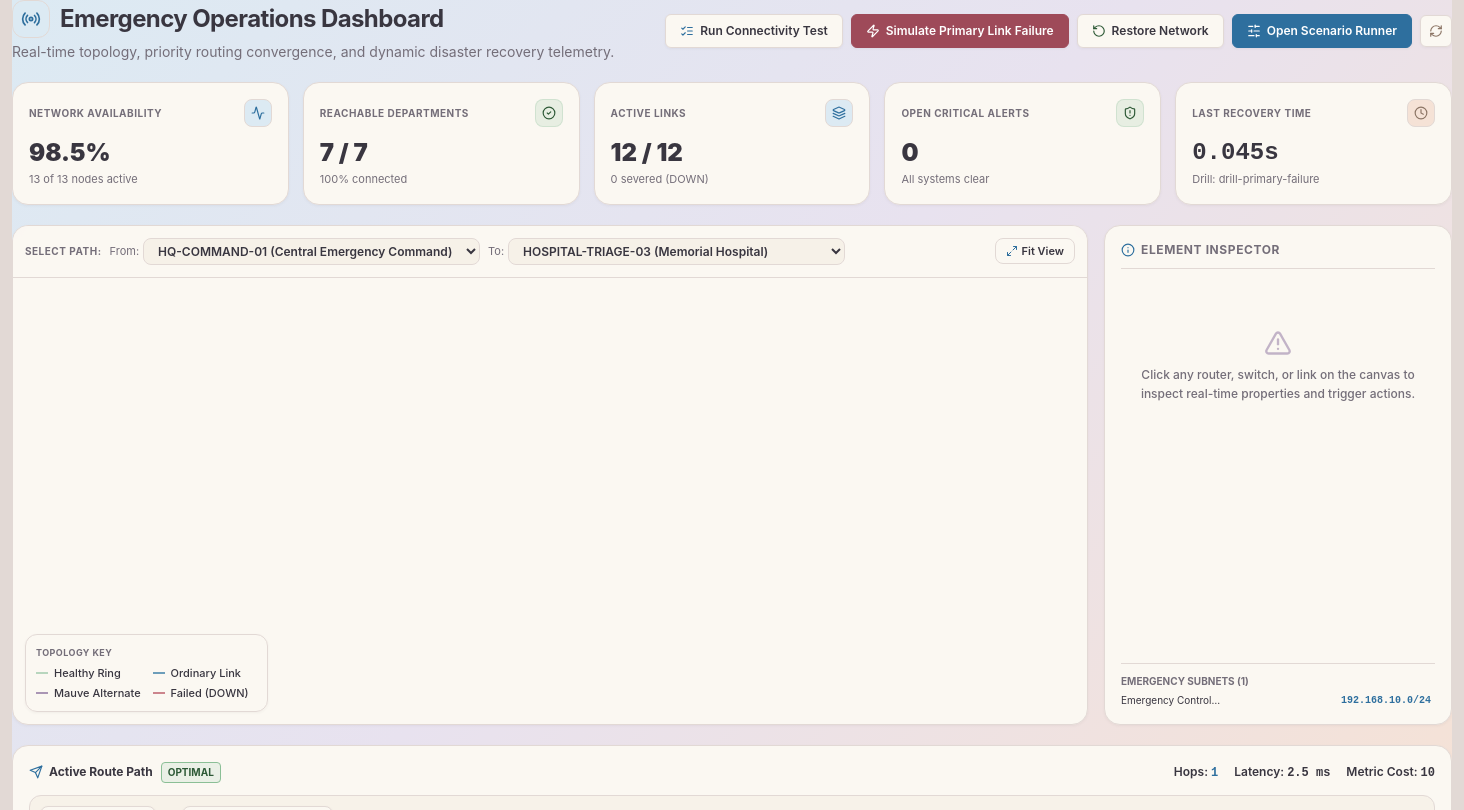
it: DashboardPage › handles "Restore Network" action button click
Step 1. Click the button "Restore Network" → click(1150, 31), box [1077, 14, 1224, 48]
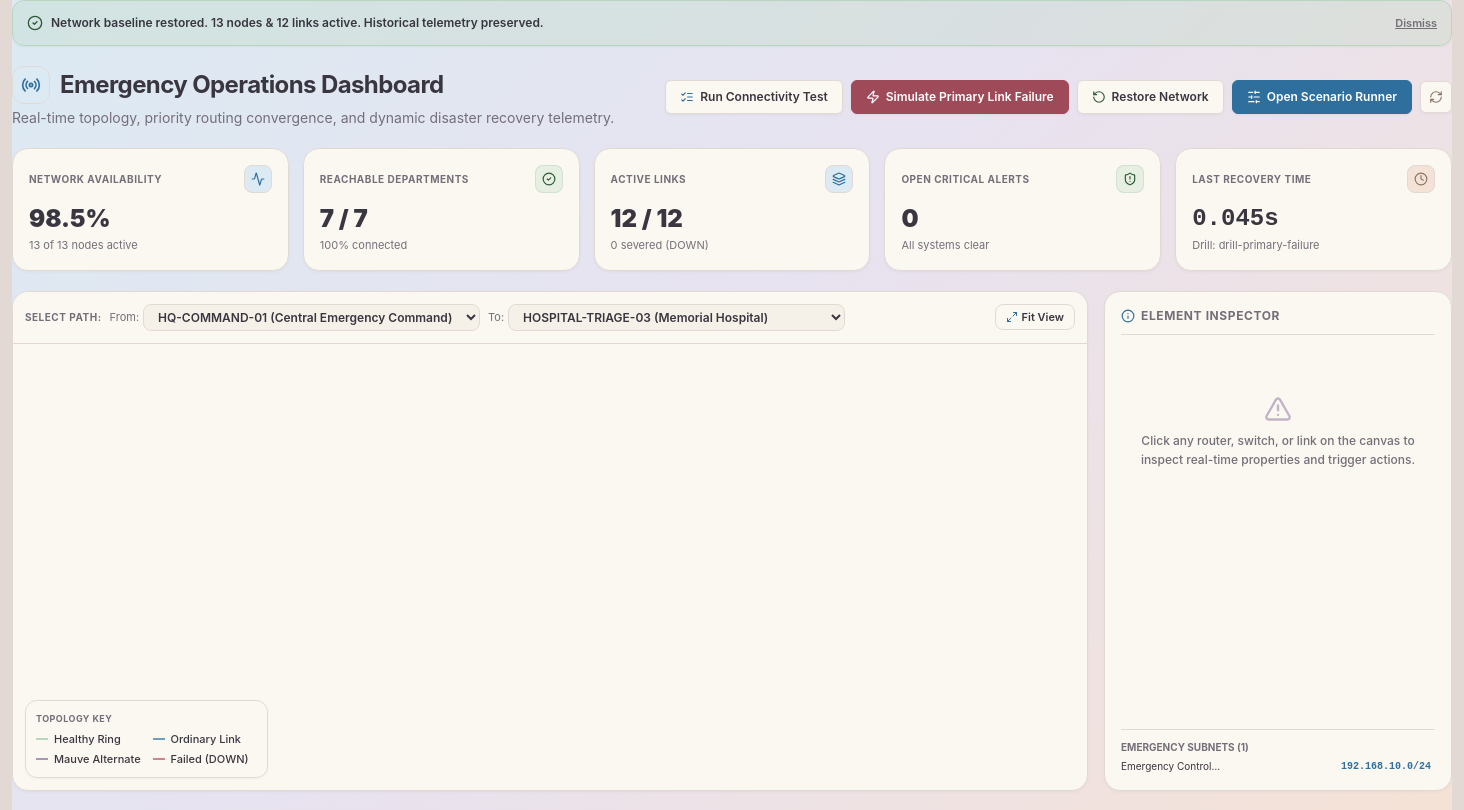
Expected: the text "Network baseline restored" is shown, [51, 15, 544, 30]
